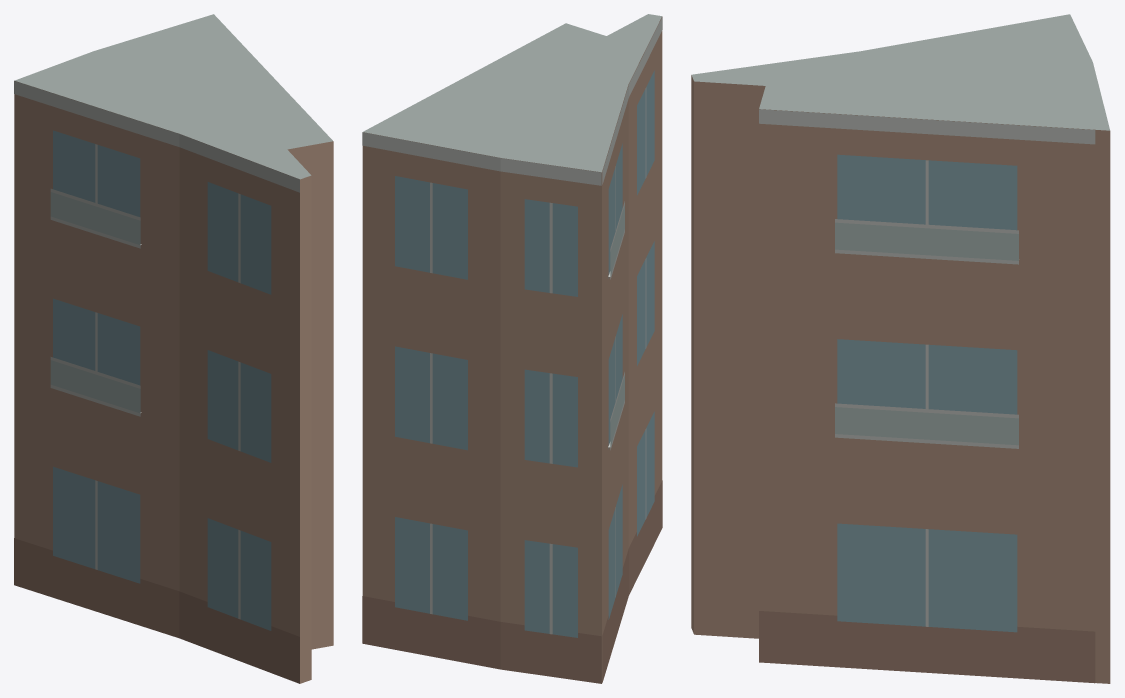
File: survey-upis-32466113.glb
The picture shows the model from 3 angles, left to right: view 1: azimuth 30°, elevation 25°; view 2: azimuth 150°, elevation 25°; view 3: azimuth 270°, elevation 25°; orthographic projection. The views are drawn at different scales.
Parts seen in each view (by area): view 1: survey-upis-32466113.tmp; view 2: survey-upis-32466113.tmp; view 3: survey-upis-32466113.tmp.
Boxes of the visible parts, x1,y1,x2,y2 form: survey-upis-32466113.tmp: (14, 14, 333, 683); survey-upis-32466113.tmp: (362, 14, 662, 683); survey-upis-32466113.tmp: (691, 14, 1110, 683).
Bounding box in the file's own units: 4.14 × 9.15 × 6.29.
